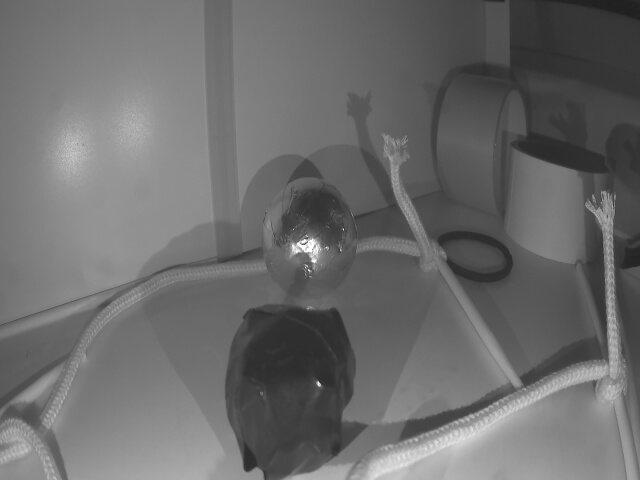Dead: (226, 300, 356, 475)
Live: (263, 177, 356, 297)
